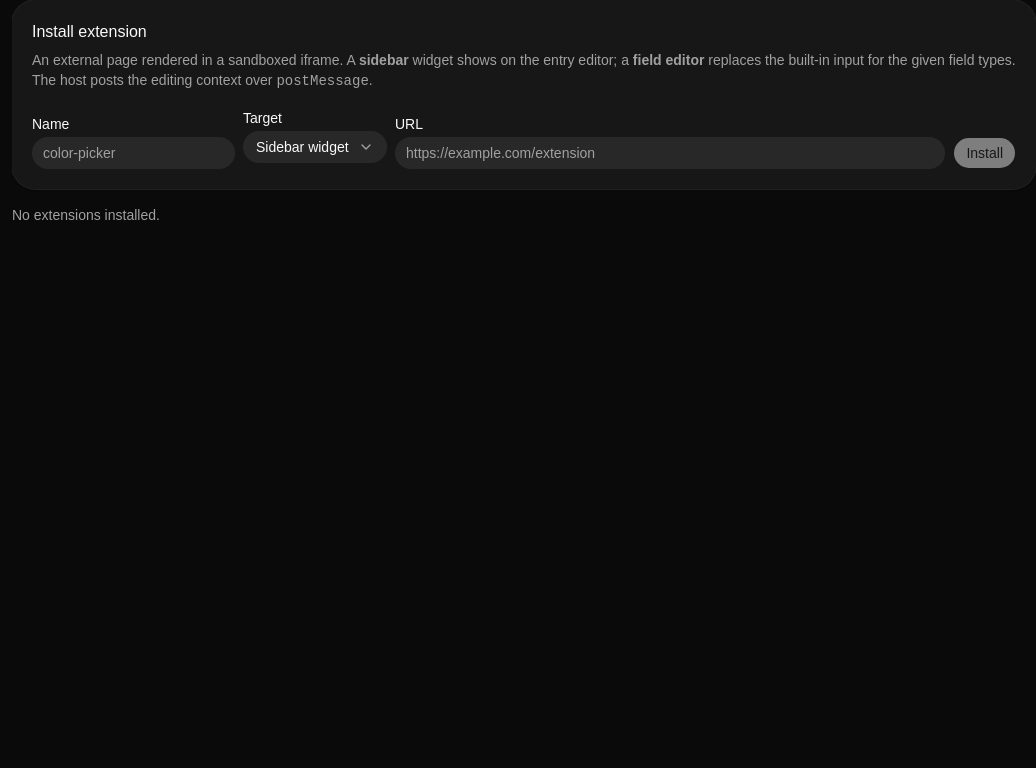
Test: AppExtensions panel › installs a sidebar extension and lists it
Expected: the text "No extensions installed." is shown, [12,207,160,223]
In the field labelled "Name": (134, 153) [32,137,235,169], type "word-count"
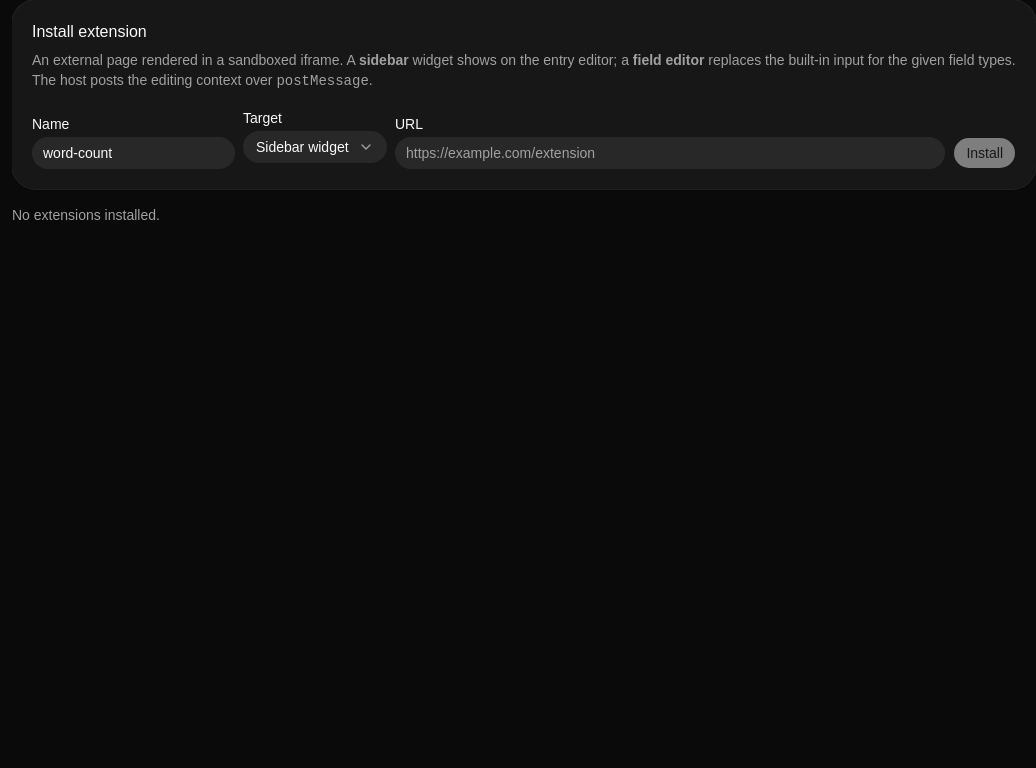
In the field labelled "URL": (670, 153) [395,137,945,169], type "https://example.com/widget"
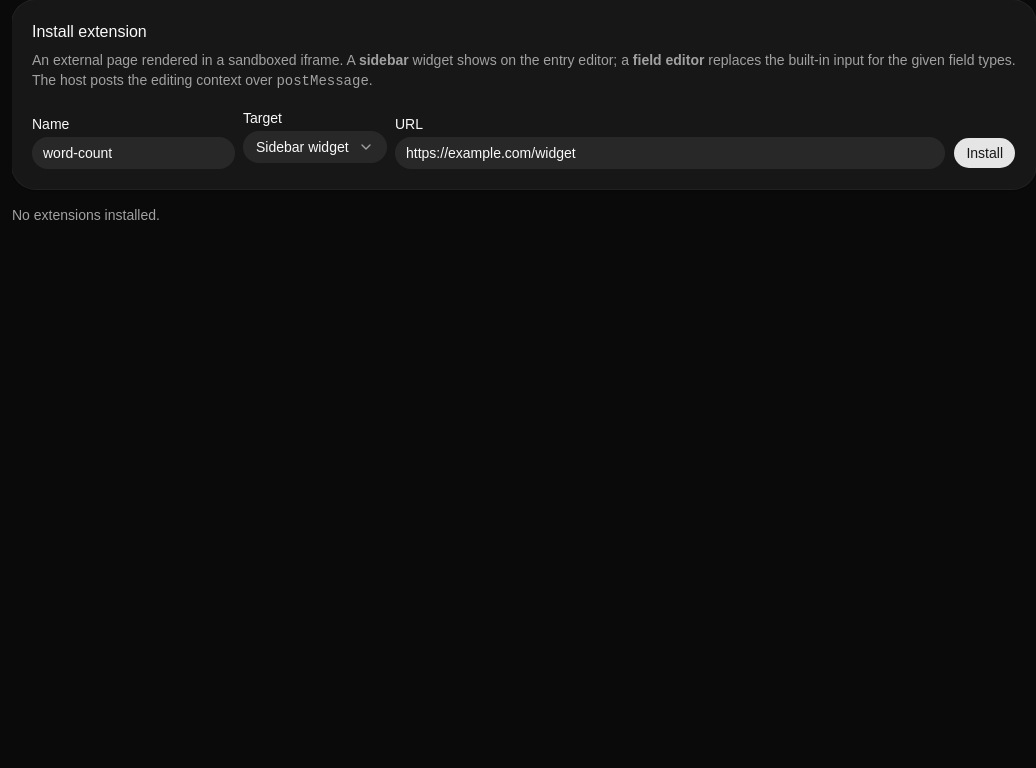
Click the button "Install": click(985, 153) [953,137,1016,169]
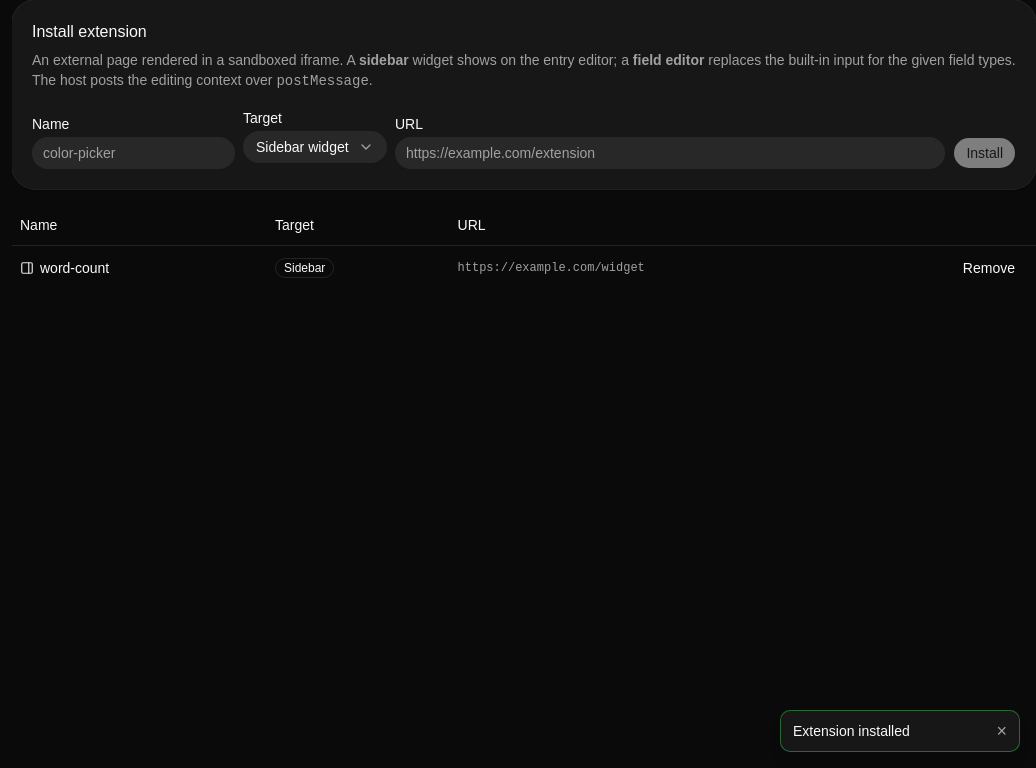
Expected: the text "word-count" is shown, [20,260,109,276]
